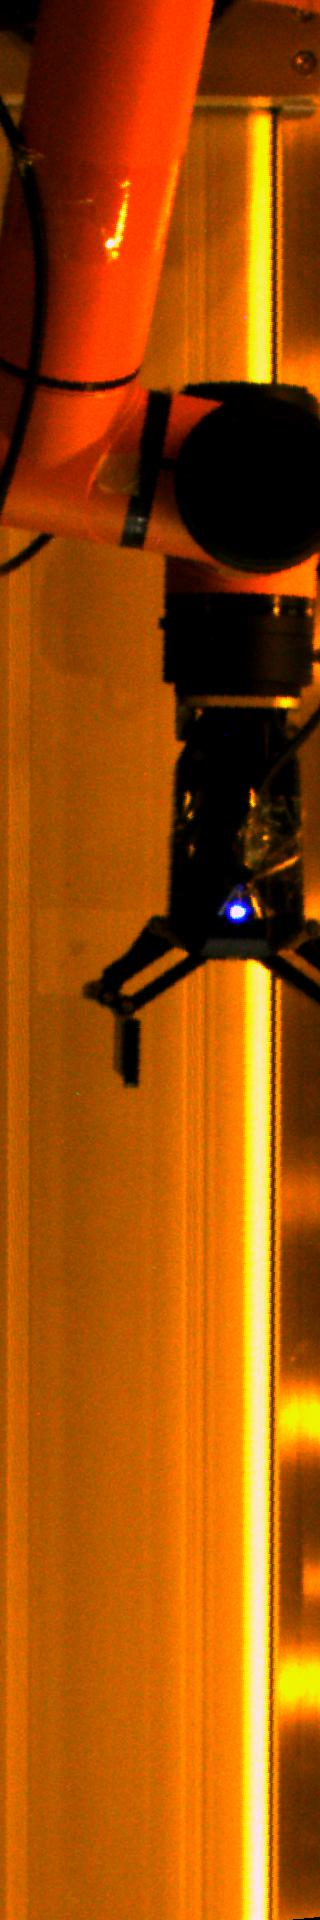keyPoint_1: (223, 895, 253, 924)
